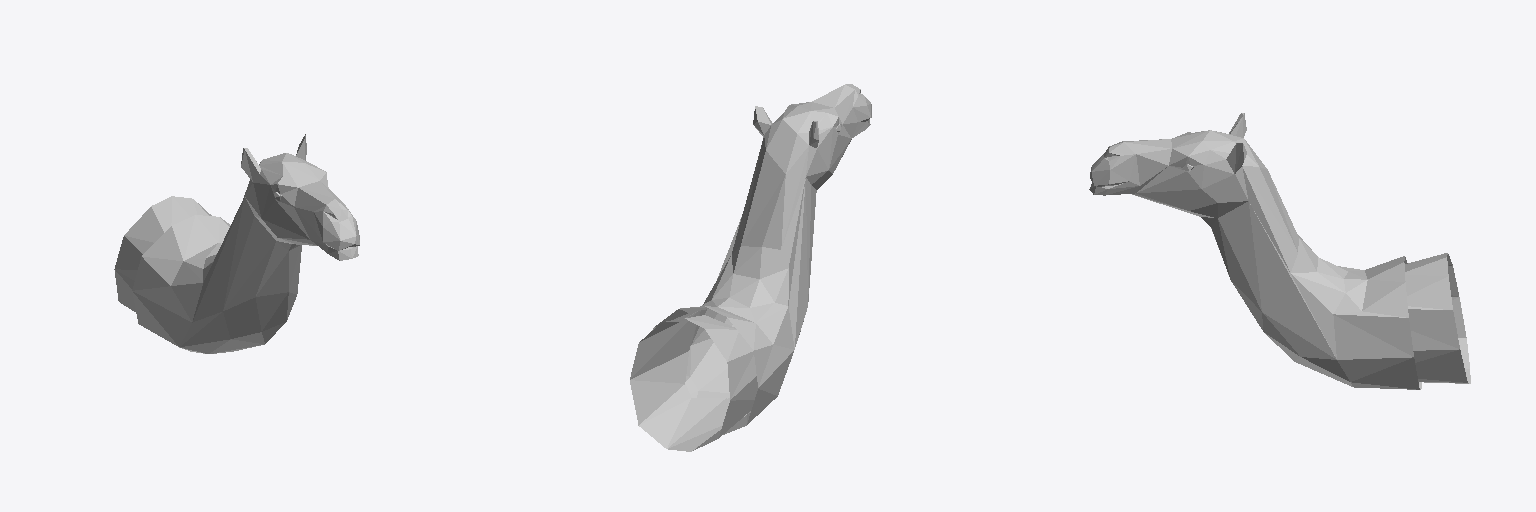
The model's file is CamelCabeza.obj.
3 views of the same model, side by side, from view 1: azimuth 30°, elevation 25°; view 2: azimuth 150°, elevation 25°; view 3: azimuth 270°, elevation 25° (orthographic).
Parts seen in each view (by area): view 1: camel-cabeza; view 2: camel-cabeza; view 3: camel-cabeza.
Boxes of the visible parts, <box> form: camel-cabeza: <box>114,134,359,353</box>; camel-cabeza: <box>630,84,871,451</box>; camel-cabeza: <box>1089,113,1470,389</box>.
Size of the model in its own units: 0.4145 by 0.8932 by 1.2.